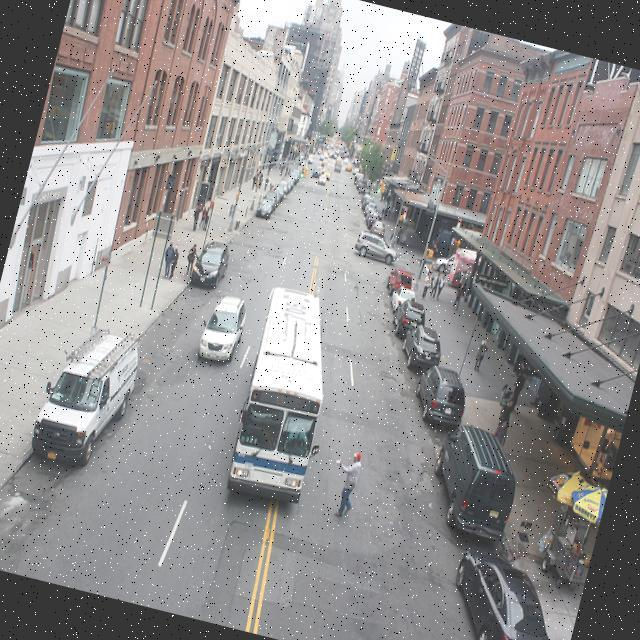fire_hydrant: (232, 218, 240, 231)
